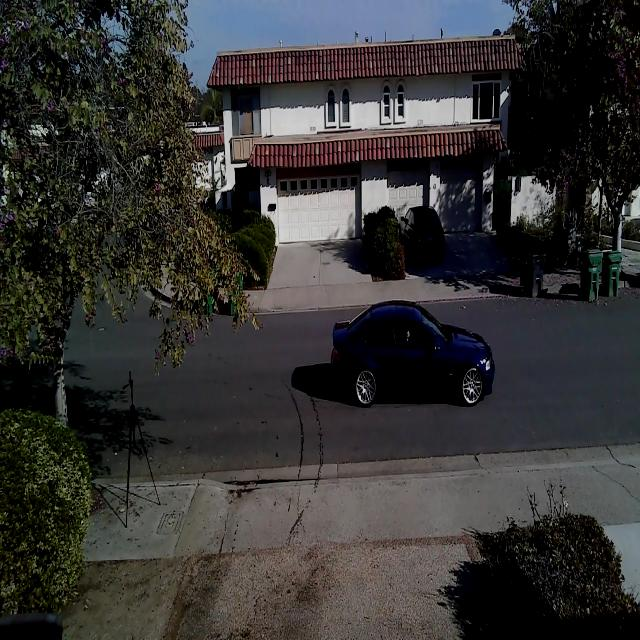Carbeetle: (319, 298, 498, 416)
Civilian: (397, 206, 445, 264)
